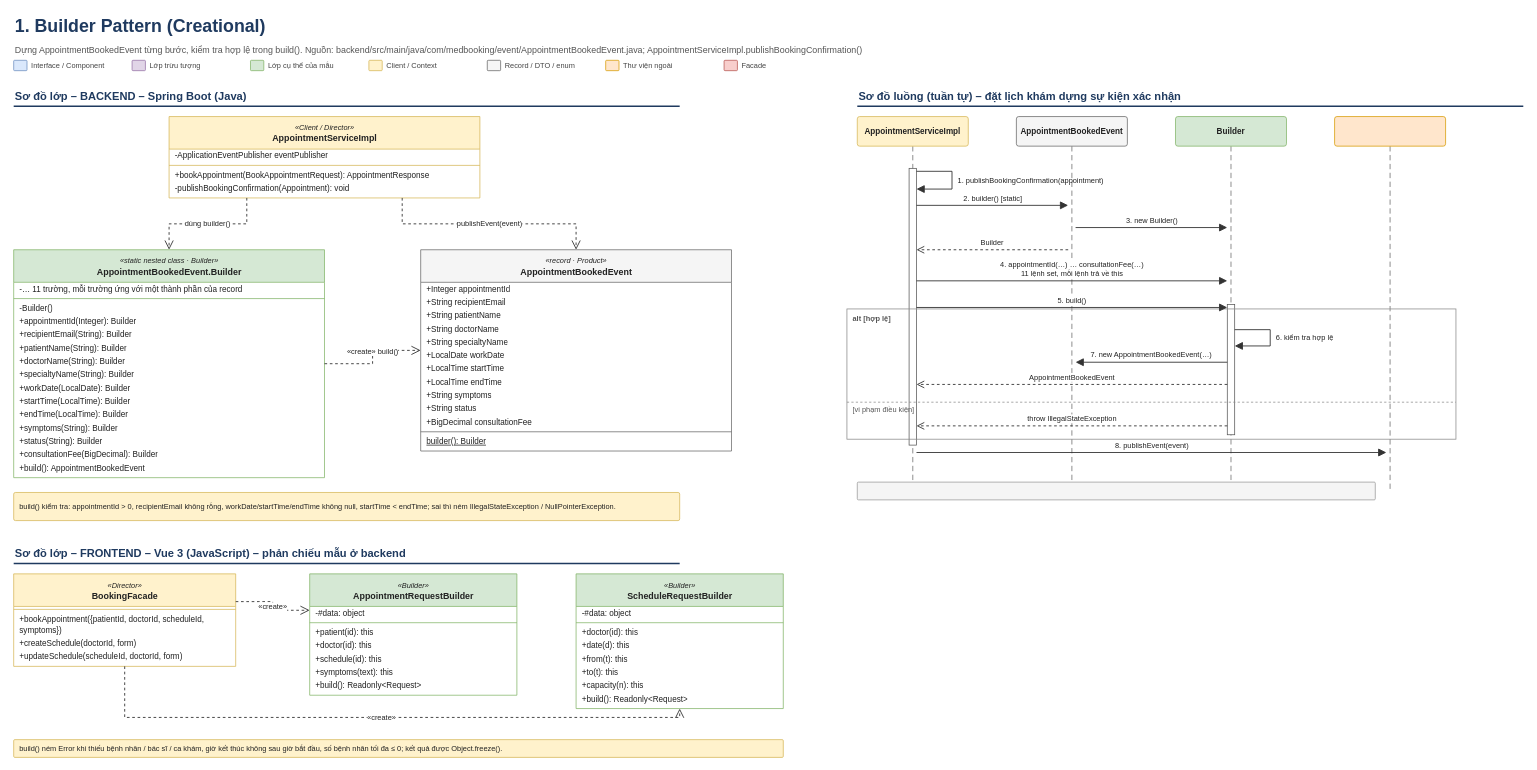
Some shapes in this 1537 by 770 pixel diagram are drawn without their labels. Here are the shapes that lost their labels. From the top down, the centre of each, then its label:
At point (1390, 131): "ApplicationEventPublisher".
At point (1116, 490): "publishBookingConfirmation() bỏ qua nếu bệnh nhân không có email.".
